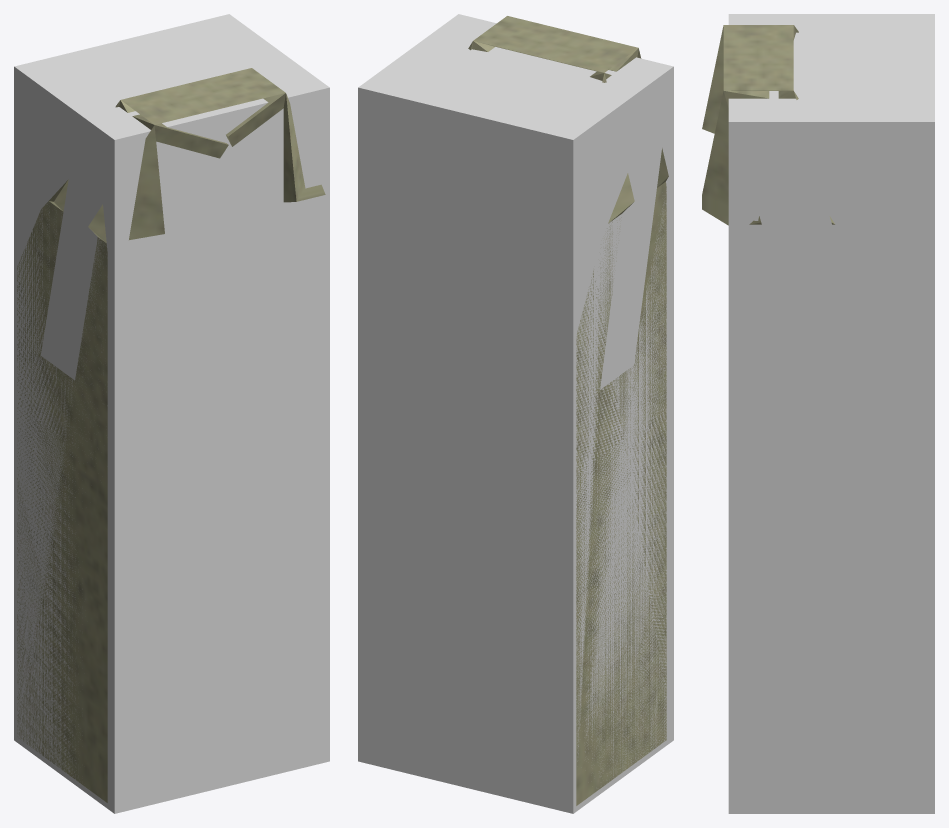
File: Breaked.gltf
3 views of the same model, side by side, from view 1: azimuth 30°, elevation 25°; view 2: azimuth 150°, elevation 25°; view 3: azimuth 270°, elevation 25° (orthographic). The views are drawn at different scales.
Visible parts, largest first — view 1: COL, Cube; view 2: COL, Cube; view 3: COL, Cube.
Boxes of the visible parts, x1=… form: COL: x1=14, y1=14, x2=329, y2=813; Cube: x1=17, y1=68, x2=325, y2=802; COL: x1=358, y1=14, x2=673, y2=813; Cube: x1=468, y1=16, x2=668, y2=805; COL: x1=728, y1=14, x2=934, y2=813; Cube: x1=702, y1=25, x2=834, y2=225.
Size of the model in its own units: 1.16 by 3.3 by 0.9961.
1 material, 1 textured.
